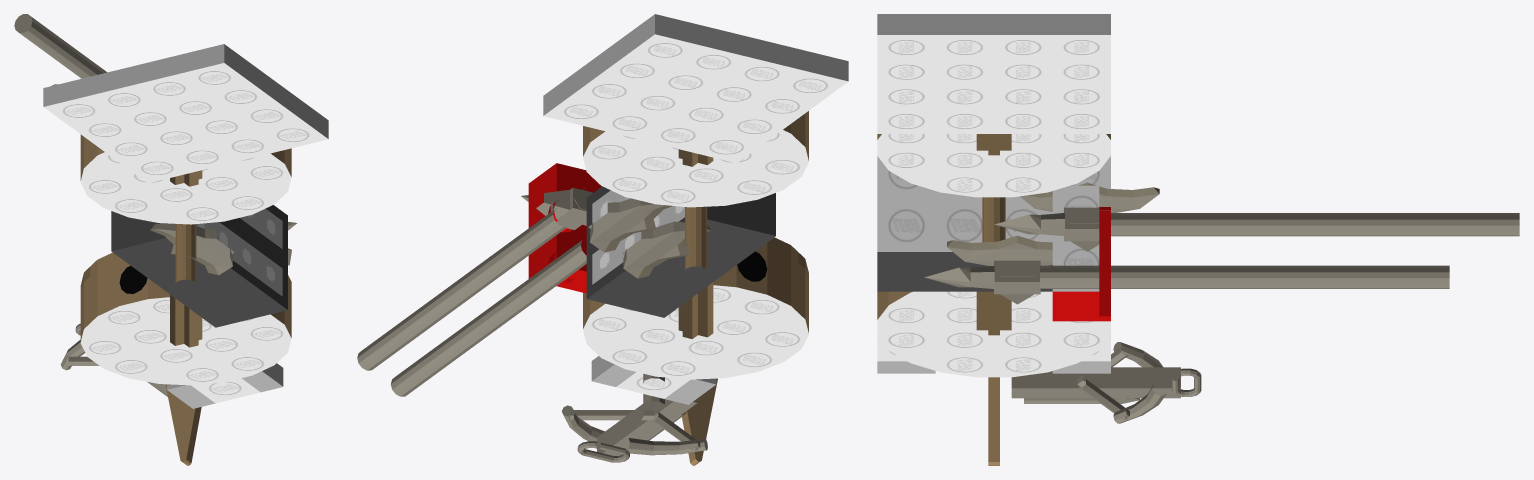
The picture shows the model from 3 angles, left to right: view 1: azimuth 30°, elevation 25°; view 2: azimuth 150°, elevation 25°; view 3: azimuth 270°, elevation 25°; orthographic projection. The views are drawn at different scales.
Parts seen in each view (by area): view 1: 026_OC_4806B1_PART_1, 011_OC_4806B1_PART_2, 004_OC_4806B1_PART__5, 021_OC_4806B1_PART_2, 032_OC_4806B1_SPEAR_PART_1, 039_OC_4806B1_PART_9, 043_OC_6096B4_AXE, 049_OC_6096B4_AXE, 059_L_257000; view 2: 026_OC_4806B1_PART_1, 011_OC_4806B1_PART_2, 021_OC_4806B1_PART_2, 004_OC_4806B1_PART__5, 043_OC_6096B4_AXE, 049_OC_6096B4_AXE, 059_L_257000, 016_OC_4806B1_PART_6, 032_OC_4806B1_SPEAR_PART_1, 035_OC_4806B1_PART_9; view 3: 026_OC_4806B1_PART_1, 011_OC_4806B1_PART_2, 049_OC_6096B4_AXE, 043_OC_6096B4_AXE, 021_OC_4806B1_PART_2, 004_OC_4806B1_PART__5, 059_L_257000, 016_OC_4806B1_PART_6, 032_OC_4806B1_SPEAR_PART_1, 039_OC_4806B1_PART_9, 035_OC_4806B1_PART_9.
Boxes of the visible parts, left/top/right/bottom form: 026_OC_4806B1_PART_1: left=43, top=44, right=328, bottom=183; 011_OC_4806B1_PART_2: left=80, top=252, right=291, bottom=385; 004_OC_4806B1_PART__5: left=111, top=205, right=287, bottom=327; 021_OC_4806B1_PART_2: left=80, top=134, right=291, bottom=224; 032_OC_4806B1_SPEAR_PART_1: left=165, top=224, right=201, bottom=465; 039_OC_4806B1_PART_9: left=167, top=363, right=283, bottom=408; 043_OC_6096B4_AXE: left=14, top=14, right=107, bottom=78; 049_OC_6096B4_AXE: left=52, top=84, right=297, bottom=275; 059_L_257000: left=60, top=323, right=167, bottom=393; 026_OC_4806B1_PART_1: left=543, top=14, right=848, bottom=163; 011_OC_4806B1_PART_2: left=583, top=237, right=808, bottom=379; 021_OC_4806B1_PART_2: left=583, top=111, right=808, bottom=207; 004_OC_4806B1_PART__5: left=586, top=186, right=775, bottom=317; 043_OC_6096B4_AXE: left=357, top=187, right=672, bottom=370; 049_OC_6096B4_AXE: left=390, top=221, right=711, bottom=396; 059_L_257000: left=562, top=373, right=707, bottom=462; 016_OC_4806B1_PART_6: left=528, top=163, right=601, bottom=293; 032_OC_4806B1_SPEAR_PART_1: left=682, top=206, right=717, bottom=465; 035_OC_4806B1_PART_9: left=591, top=356, right=716, bottom=404; 026_OC_4806B1_PART_1: left=877, top=14, right=1110, bottom=133; 011_OC_4806B1_PART_2: left=877, top=291, right=1110, bottom=377; 049_OC_6096B4_AXE: left=924, top=235, right=1449, bottom=304; 043_OC_6096B4_AXE: left=994, top=182, right=1519, bottom=251; 021_OC_4806B1_PART_2: left=877, top=134, right=1110, bottom=197; 004_OC_4806B1_PART__5: left=877, top=156, right=1110, bottom=291; 059_L_257000: left=1011, top=342, right=1201, bottom=423; 016_OC_4806B1_PART_6: left=1052, top=185, right=1110, bottom=321; 032_OC_4806B1_SPEAR_PART_1: left=982, top=197, right=1005, bottom=465; 039_OC_4806B1_PART_9: left=877, top=336, right=935, bottom=373; 035_OC_4806B1_PART_9: left=1052, top=336, right=1110, bottom=373.
Size of the model in its own units: 3.76 by 6.08 by 8.8.
Materials: 11 (3 with a texture image).
